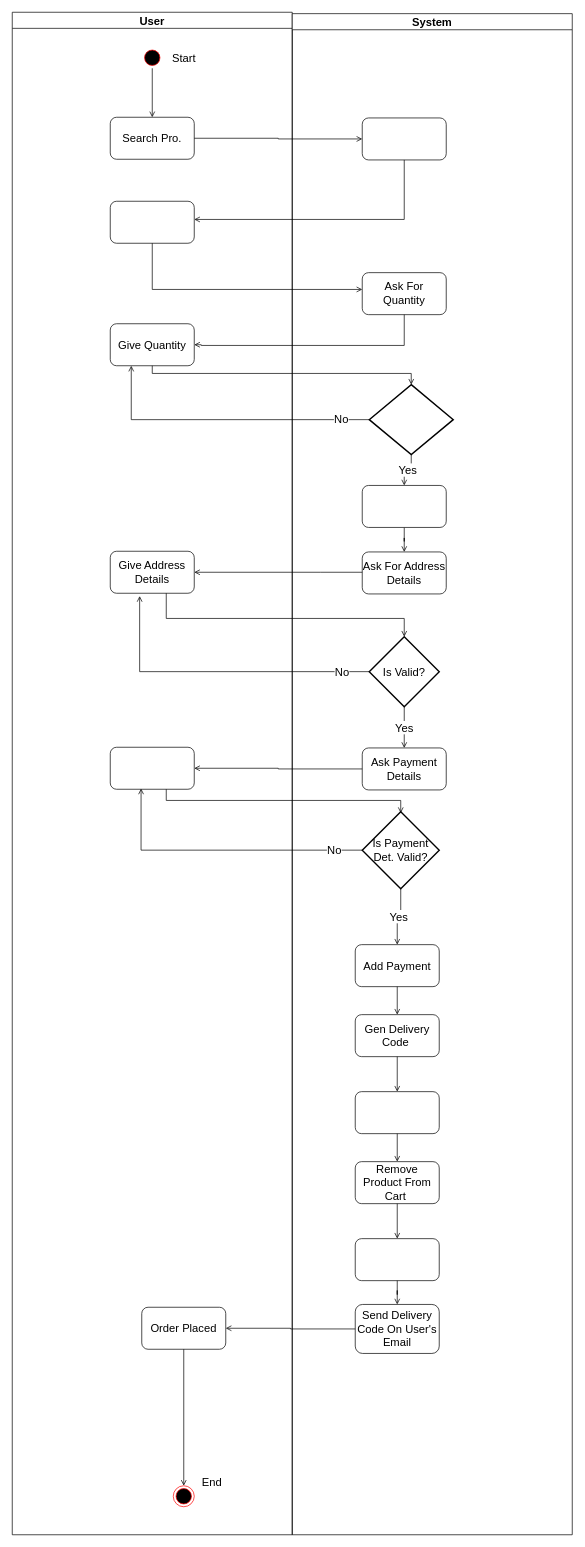
Some shapes in this 585 by 1547 pixel diagram are drawn without their labels. Here are the shapes that lost their labels. From the top down, the centre of each, then its label:
At (404,138): "Display Pro.".
At (152,222): "Click On Buy Pro.".
At (411,419): "Is Available?".
At (404,506): "Add Pro. To Cart".
At (152,768): "Input Payment Details".
At (397,1112): "Place Order".
At (397,1259): "Decrease Quantity".
